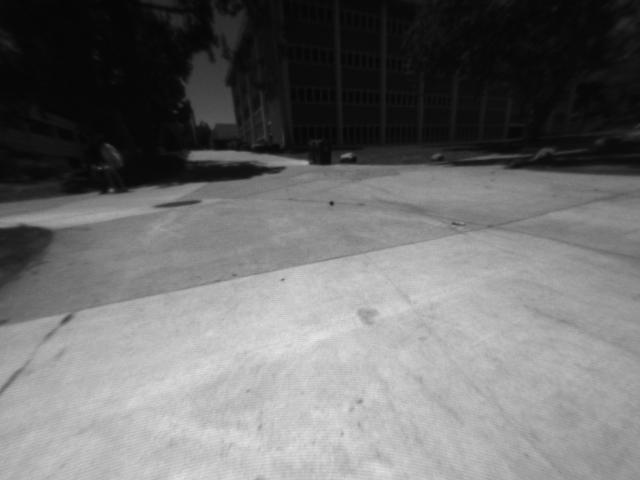dogtoy: (323, 194, 344, 211)
